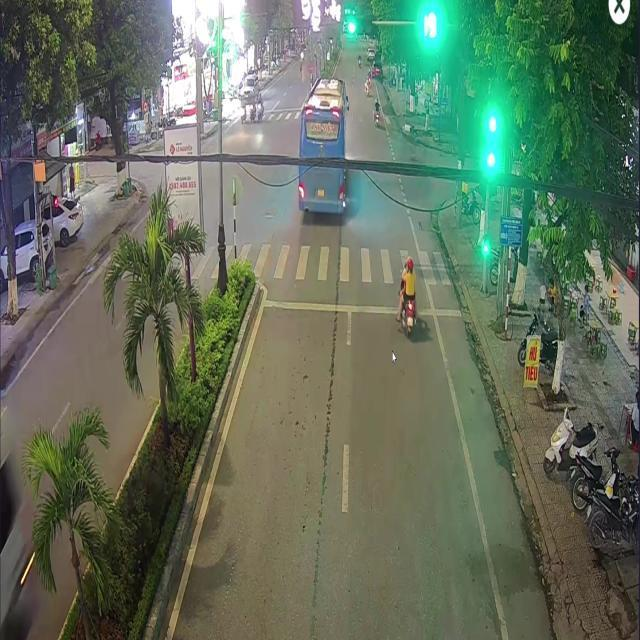green_light: (484, 110, 498, 172), (345, 13, 372, 38)
motobike: (395, 255, 419, 347)
stop_line: (262, 299, 460, 316)
